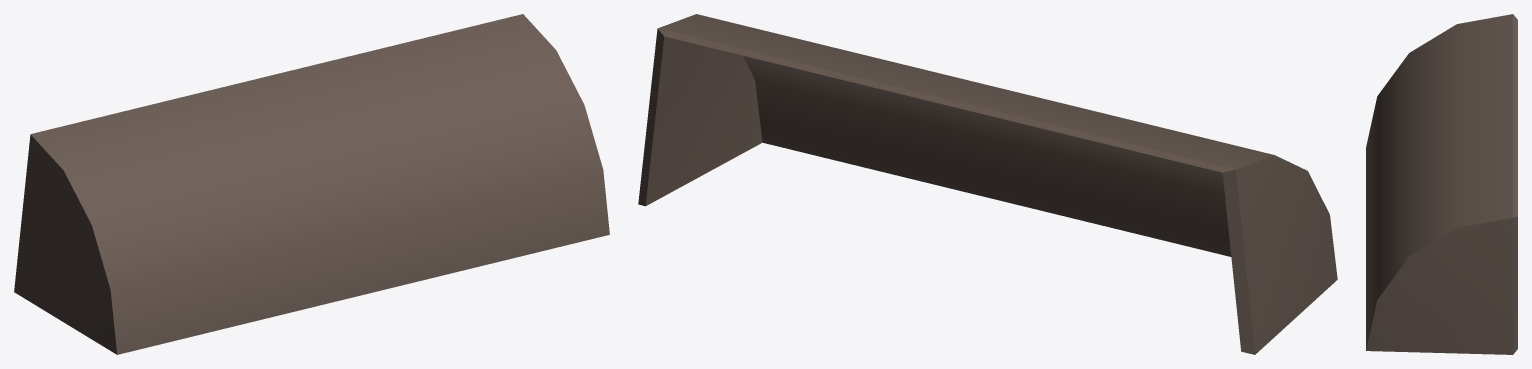
File: CanvasStoreFront2.fbx.glb
3 views of the same model, side by side, from view 1: azimuth 30°, elevation 25°; view 2: azimuth 150°, elevation 25°; view 3: azimuth 270°, elevation 25° (orthographic). The views are drawn at different scales.
Visible parts, largest first — view 1: CanvasStoreFront2.1; view 2: CanvasStoreFront2.1; view 3: CanvasStoreFront2.1.
Part boxes in pixels (<box>): CanvasStoreFront2.1: <box>14,14,609,354</box>; CanvasStoreFront2.1: <box>638,14,1337,354</box>; CanvasStoreFront2.1: <box>1366,14,1517,354</box>.
Size of the model in its own units: 362 by 104 by 107.
